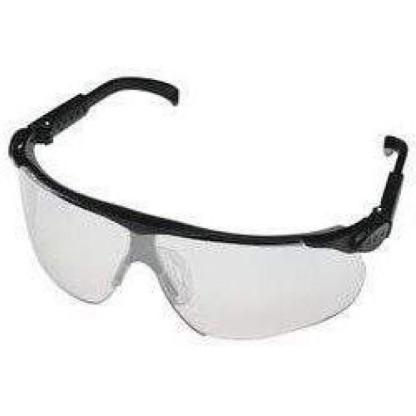oculos: (7, 60, 413, 358)
